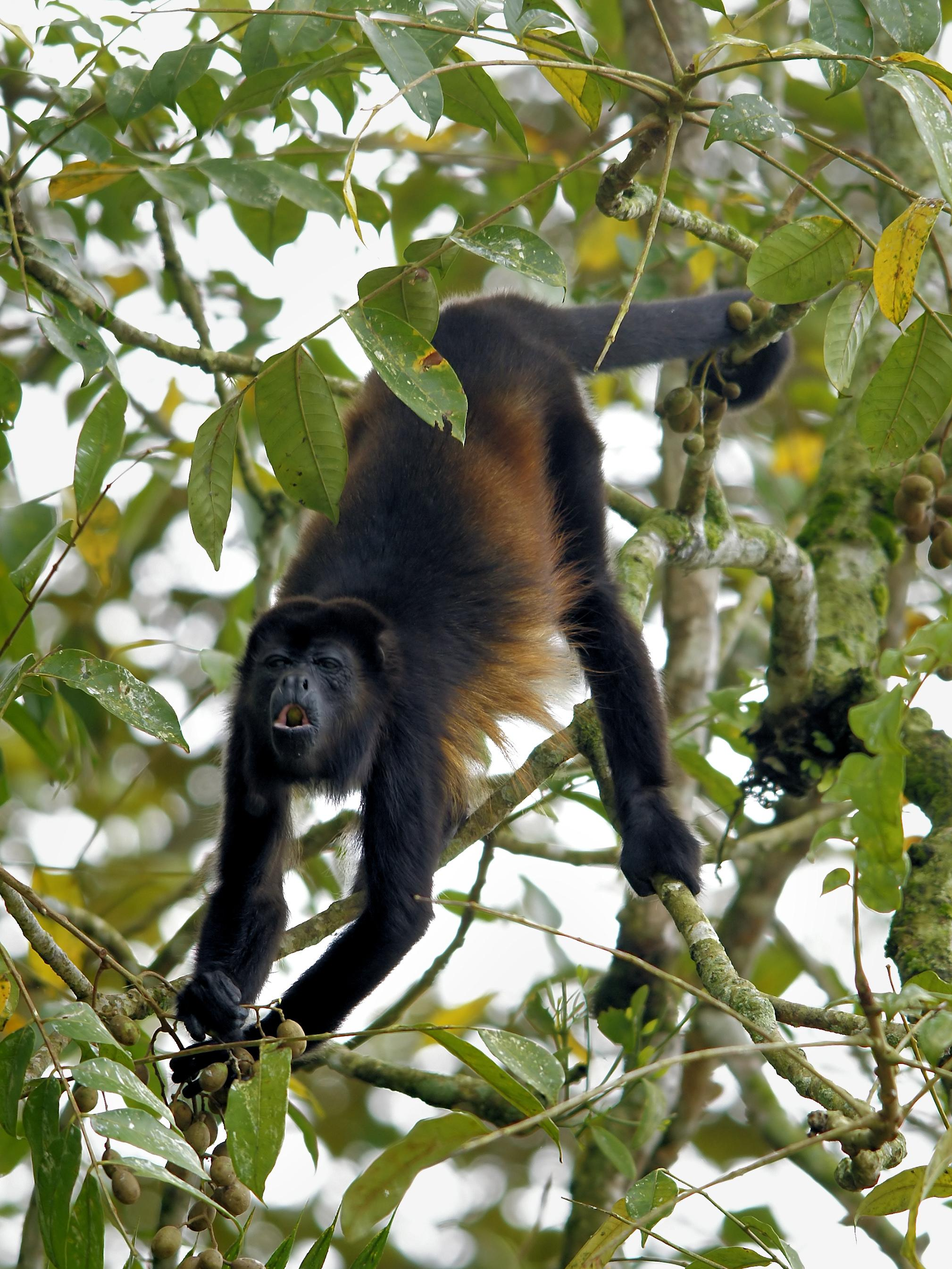monkey: (170, 290, 735, 1047)
